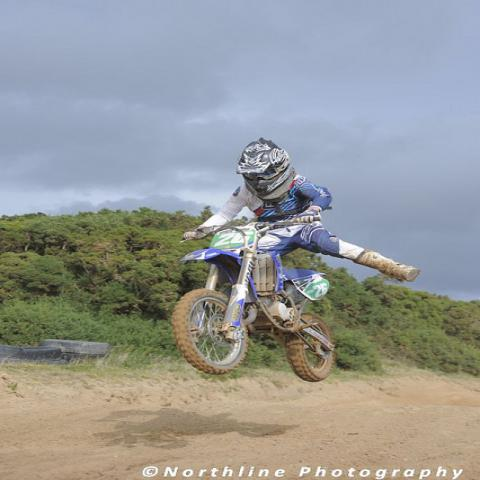motorcycle: (168, 216, 344, 379)
